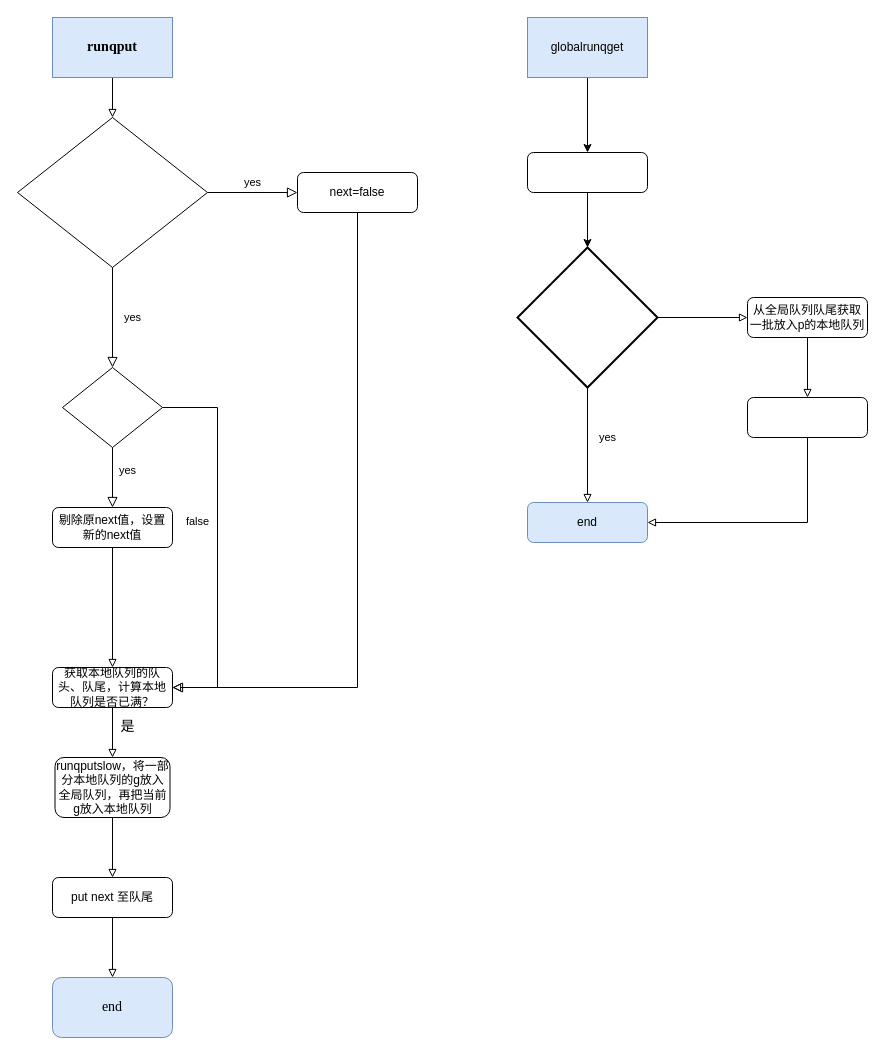
This 885x1055 diagram has some shape labels left out. The centre of each missing label's shape, as x and y in pixels:
hold mutex lock: [587,172]
next ==true?: [112,407]
p的next是否为true&消除预设的schedule order?: [112,192]
从全局队列队尾获取一个g作为函数返回值: [807,417]
全局队列是否为空？: [587,317]
